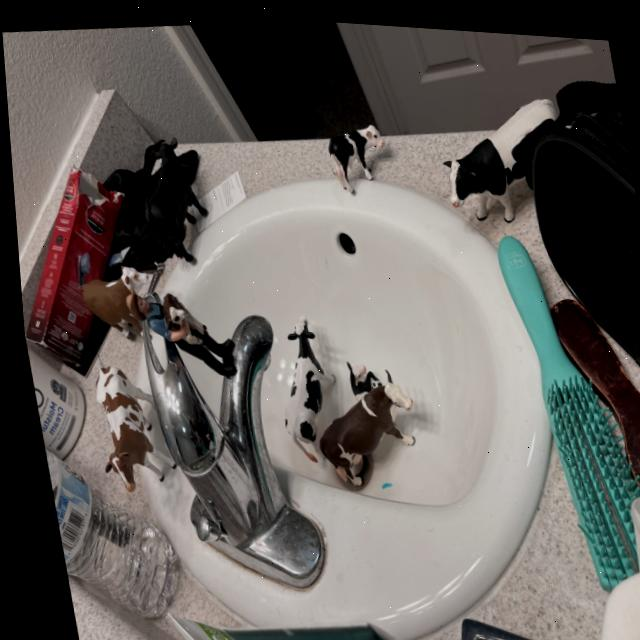cow: (427, 63, 560, 225), (302, 368, 427, 486), (271, 312, 339, 458), (87, 361, 150, 492), (138, 141, 201, 261), (316, 111, 397, 192), (71, 257, 147, 331), (140, 288, 204, 354), (339, 350, 377, 391)
person: (115, 285, 181, 341)
